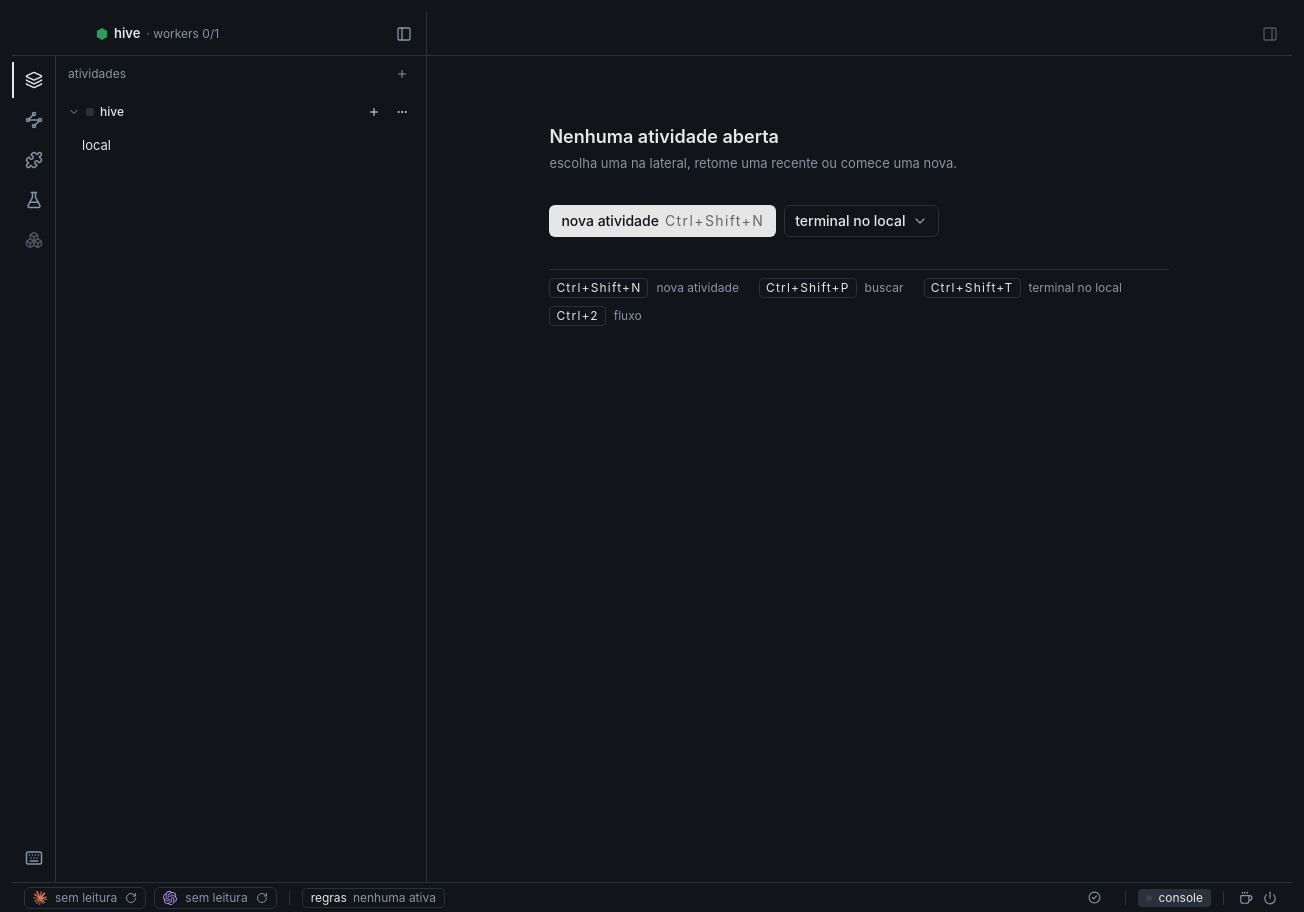
Test case: the flow, a repository's lists and the GitHub Project table show no back button (#380)
Step 1. Click the button named "fluxo" → point(34, 120), box x1=12 y1=102 x2=56 y2=138
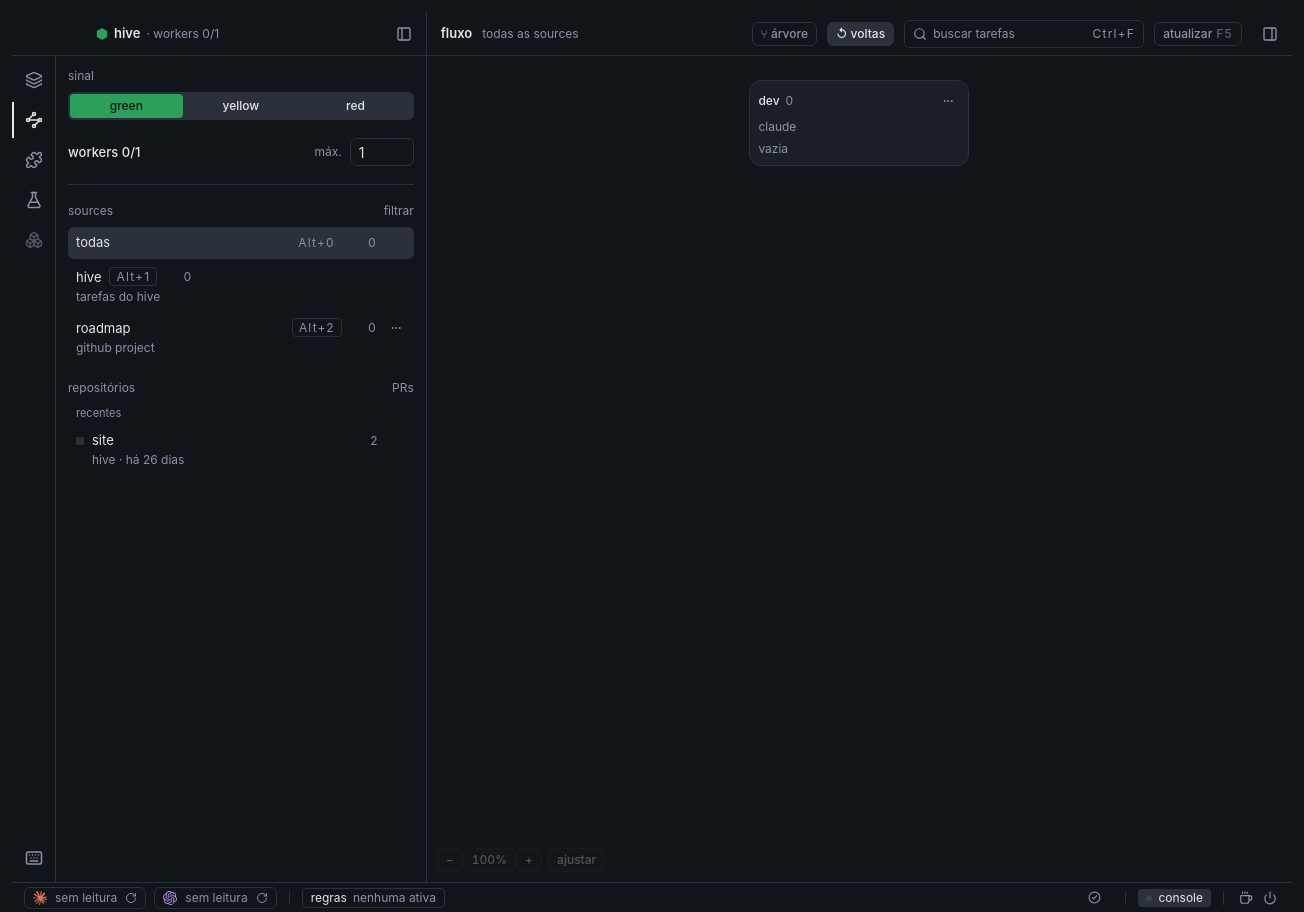
Step 2. Click the button "site 2 hive · há 26 dias" → point(138, 459), box x1=68 y1=425 x2=414 y2=474
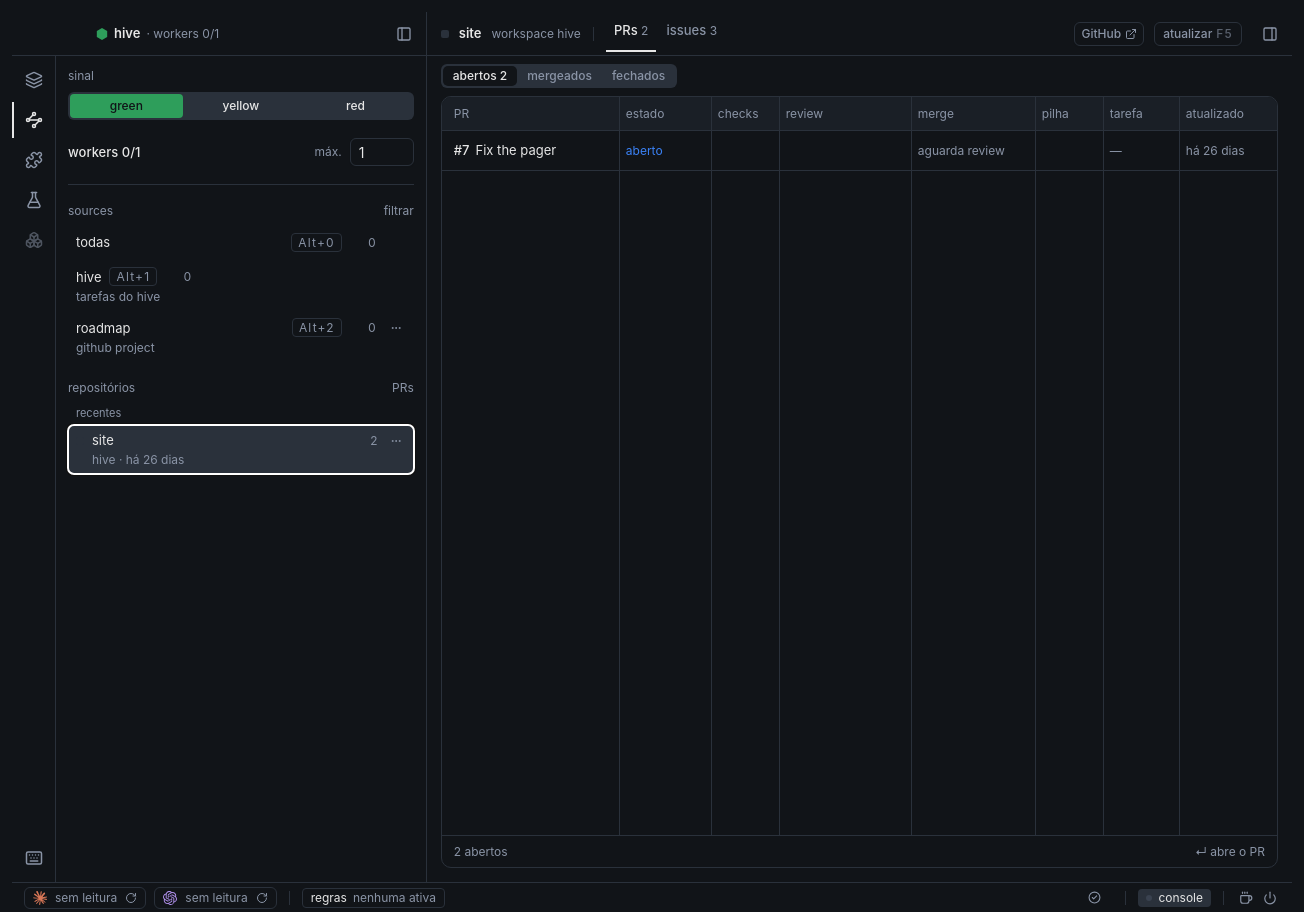
Expected: the text "Fix the pager" is shown, x1=476 y1=141 x2=556 y2=160
Step 3. Click the tab "issues 3" → point(692, 32), box x1=658 y1=12 x2=725 y2=52
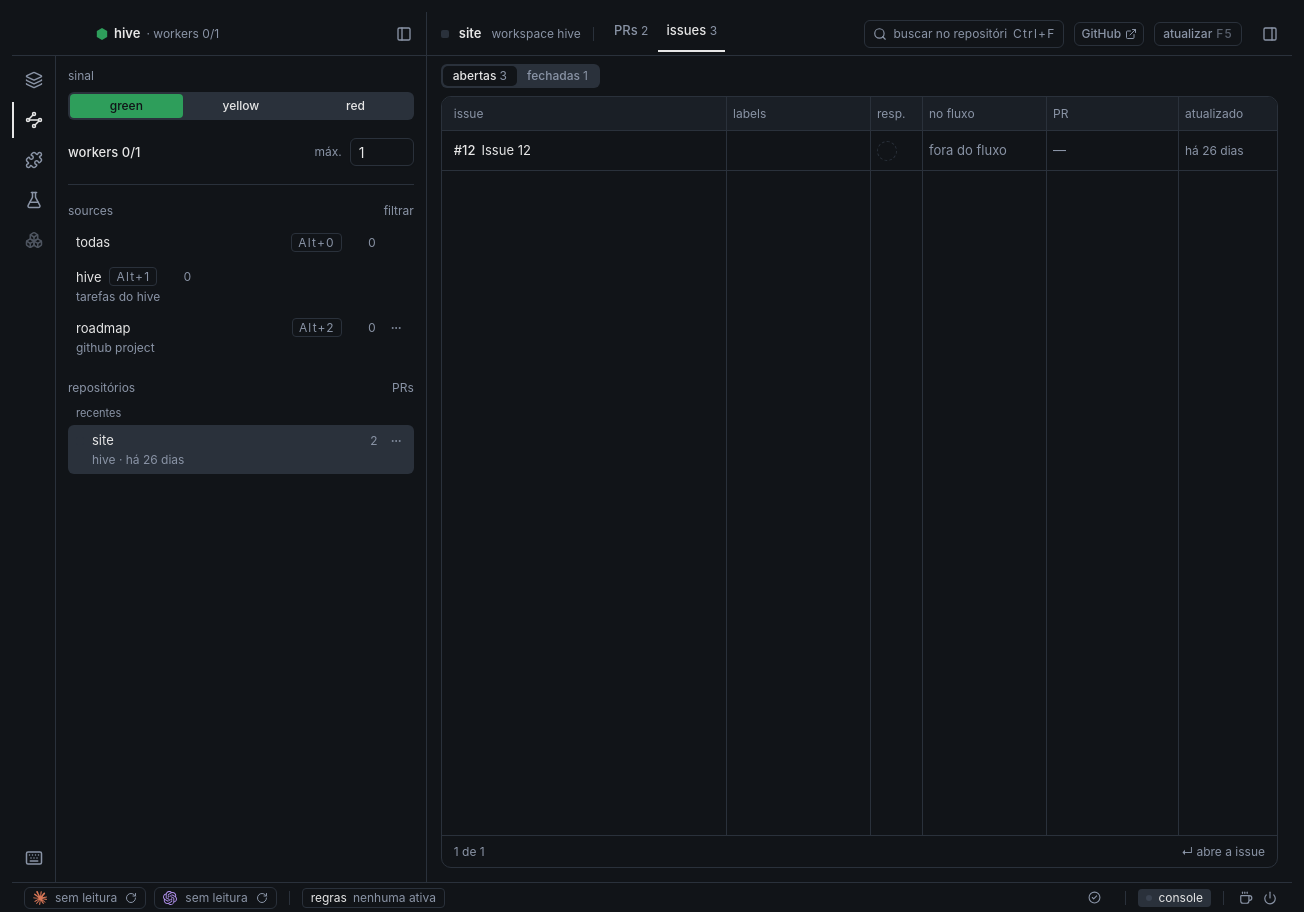
Expected: the text "Issue 12" is shown, x1=482 y1=141 x2=531 y2=160
Step 4. Click the button "roadmap Alt+2 0 github project" → point(103, 328), box x1=68 y1=313 x2=414 y2=362
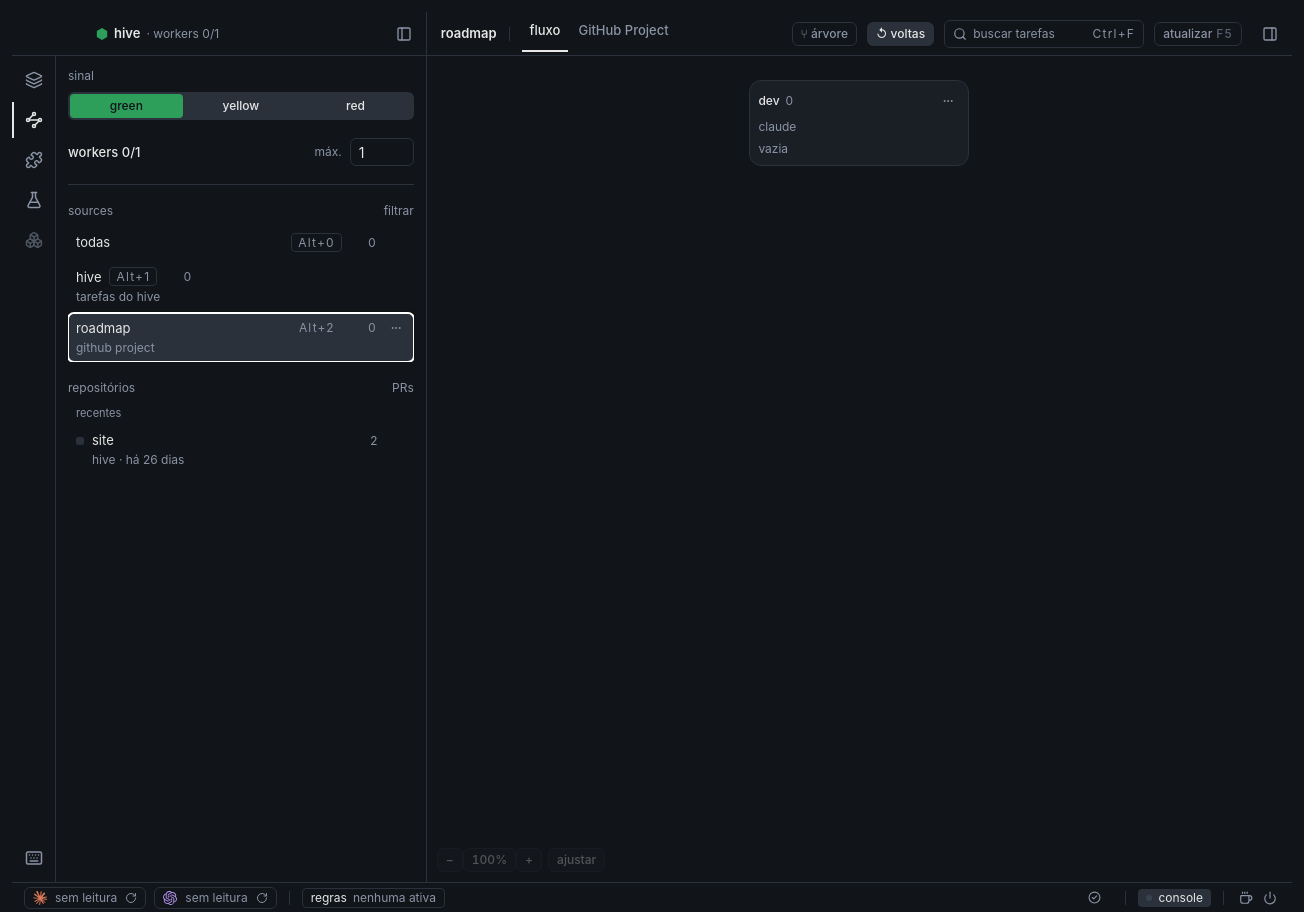
Step 5. Click the tab "GitHub Project" → point(624, 32), box x1=570 y1=12 x2=677 y2=52
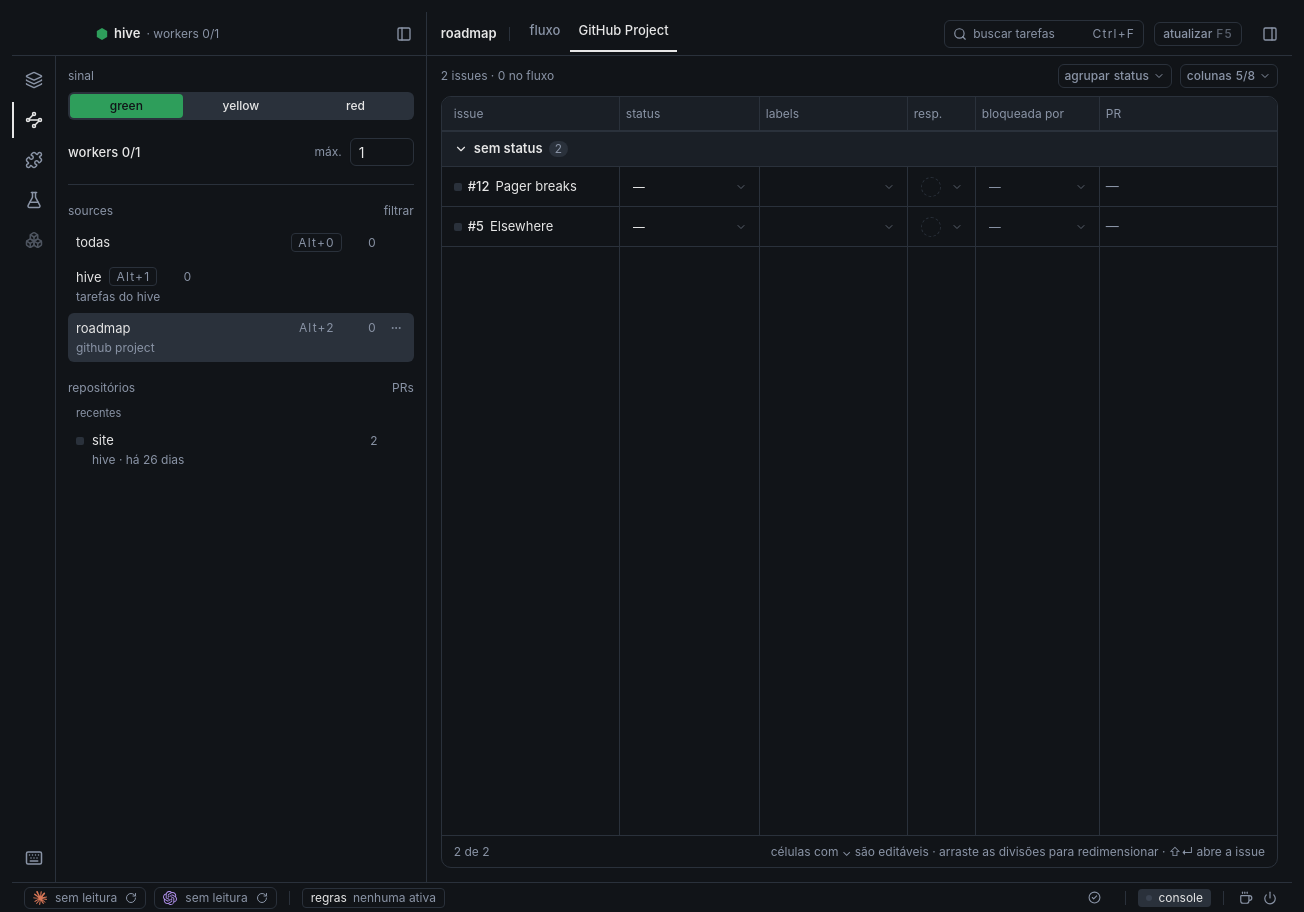
Expected: the text "2 issues · 0 no fluxo" is shown, x1=441 y1=68 x2=554 y2=83
